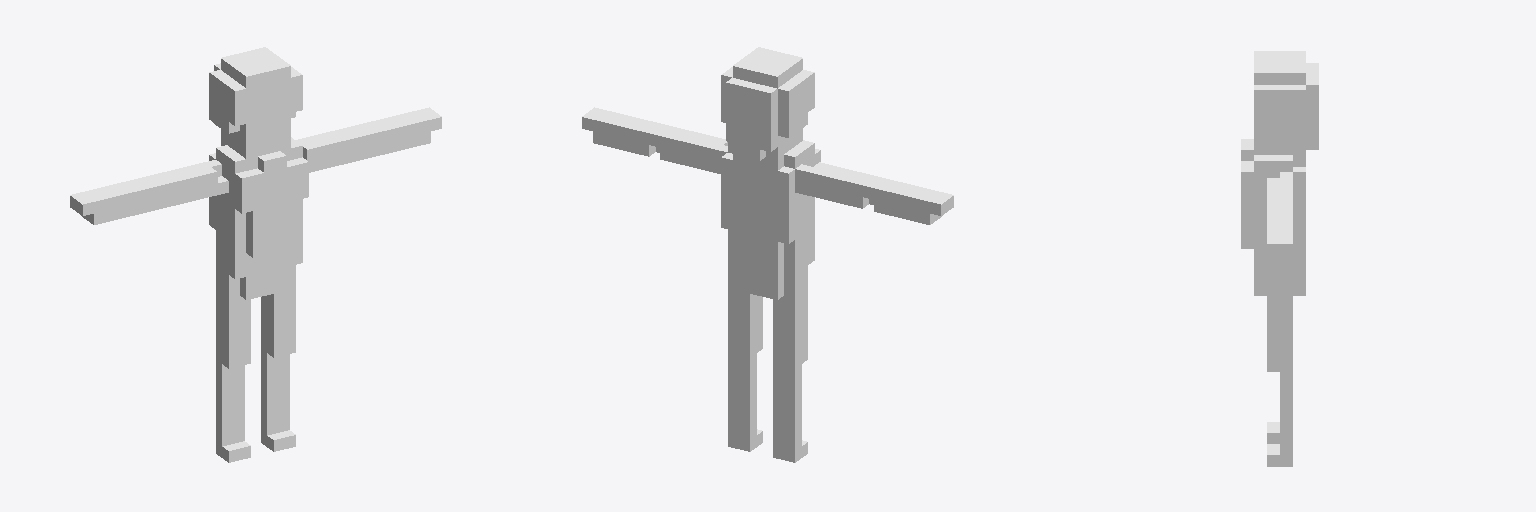
File: Character12.obj
3 views of the same model, side by side, from view 1: azimuth 30°, elevation 25°; view 2: azimuth 150°, elevation 25°; view 3: azimuth 270°, elevation 25° (orthographic).
Parts seen in each view (by area): view 1: Character11_Mesh.011; view 2: Character11_Mesh.011; view 3: Character11_Mesh.011.
Part boxes in pixels (x1,y1,x2,y2): Character11_Mesh.011: (70, 47, 441, 462); Character11_Mesh.011: (582, 47, 953, 462); Character11_Mesh.011: (1241, 51, 1318, 466).
Size of the model in its own units: 12.15 by 12.53 by 2.28.